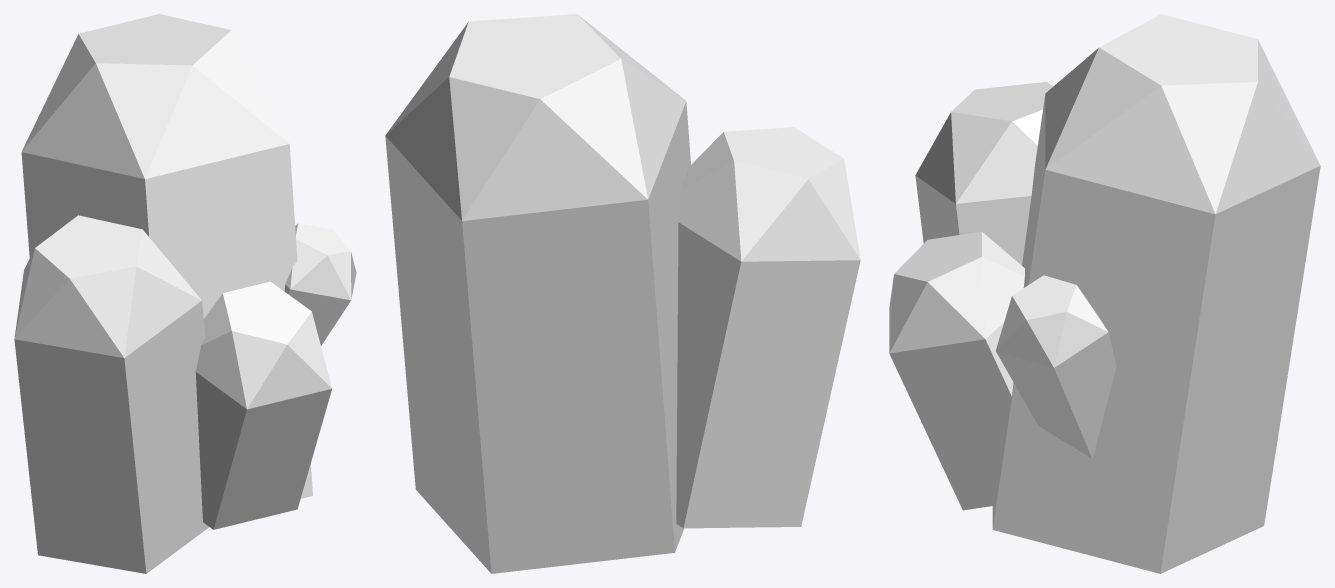
The model's file is Gem_Opal.fbx.
The picture shows the model from 3 angles, left to right: view 1: azimuth 30°, elevation 25°; view 2: azimuth 150°, elevation 25°; view 3: azimuth 270°, elevation 25°; orthographic projection. The views are drawn at different scales.
Parts seen in each view (by area): view 1: Gem_Opal; view 2: Gem_Opal; view 3: Gem_Opal.
Boxes of the visible parts, x1=… form: Gem_Opal: x1=14, y1=14, x2=356, y2=573; Gem_Opal: x1=385, y1=14, x2=860, y2=573; Gem_Opal: x1=889, y1=14, x2=1320, y2=573.
Size of what is drawn, in the model's own units: 318 by 375 by 306.
